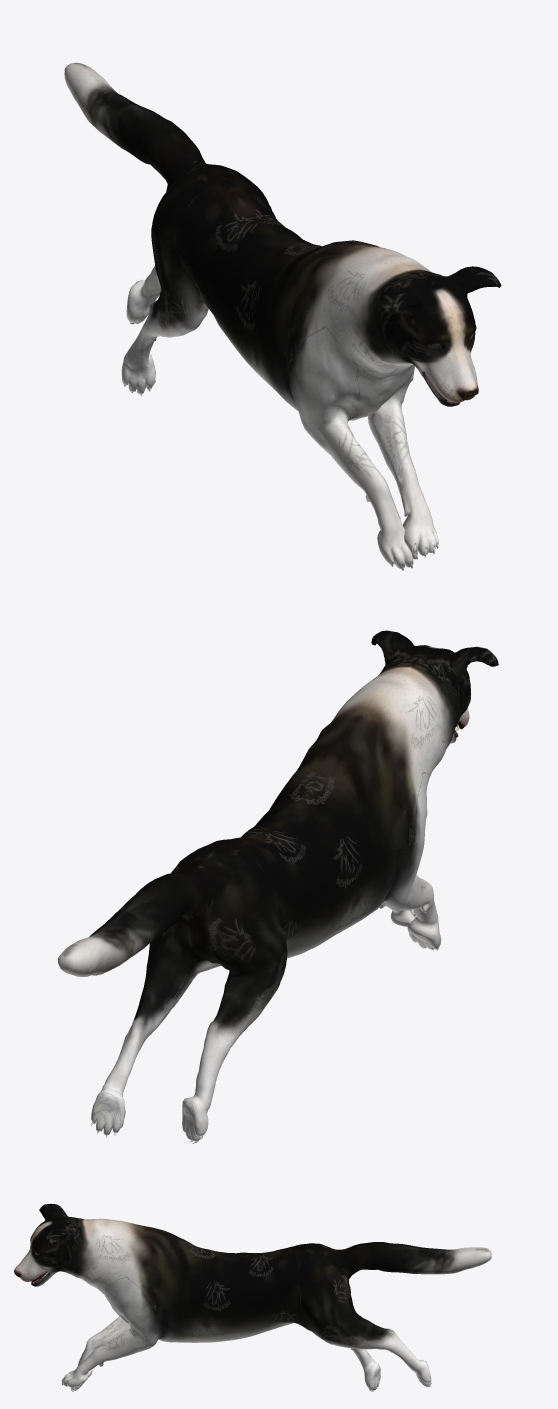
File: chien_bordercollie.glb
3 renders of one model, top to bottom at view 1: azimuth 30°, elevation 25°; view 2: azimuth 150°, elevation 25°; view 3: azimuth 270°, elevation 25°, orthographic. The views are drawn at different scales.
Visible parts, largest first — view 1: Object_9; view 2: Object_9; view 3: Object_9.
Boxes of the visible parts, x1,y1,x2,y2 form: Object_9: (64, 62, 501, 571); Object_9: (58, 630, 498, 1143); Object_9: (14, 1203, 491, 1391).
Size of what is drawn, in the model's own units: 3.76 by 5.85 by 13.98.
Materials: 4 (3 with a texture image).
